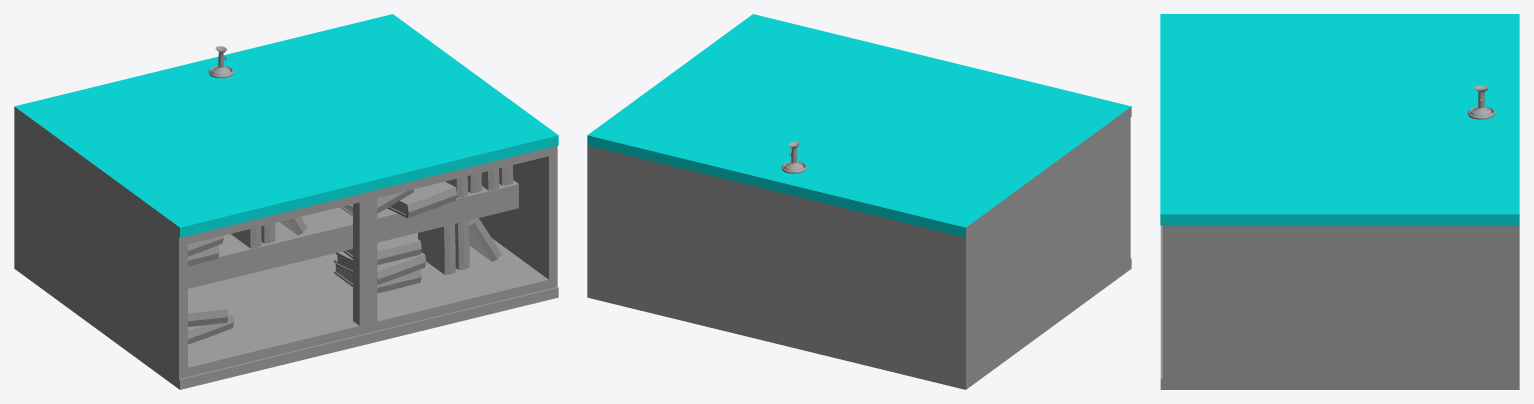
The model's file is opencabinetwbooksandburner.fbx.
3 views of the same model, side by side, from view 1: azimuth 30°, elevation 25°; view 2: azimuth 150°, elevation 25°; view 3: azimuth 270°, elevation 25° (orthographic). The views are drawn at different scales.
Visible parts, largest first — view 1: polySurface10; view 2: polySurface10; view 3: polySurface10.
Boxes of the visible parts, left/top/right/bottom form: polySurface10: left=14, top=14, right=558, bottom=389; polySurface10: left=587, top=14, right=1131, bottom=389; polySurface10: left=1160, top=14, right=1519, bottom=389.
Bounding box in the file's own units: 137 × 64.3 × 104.
